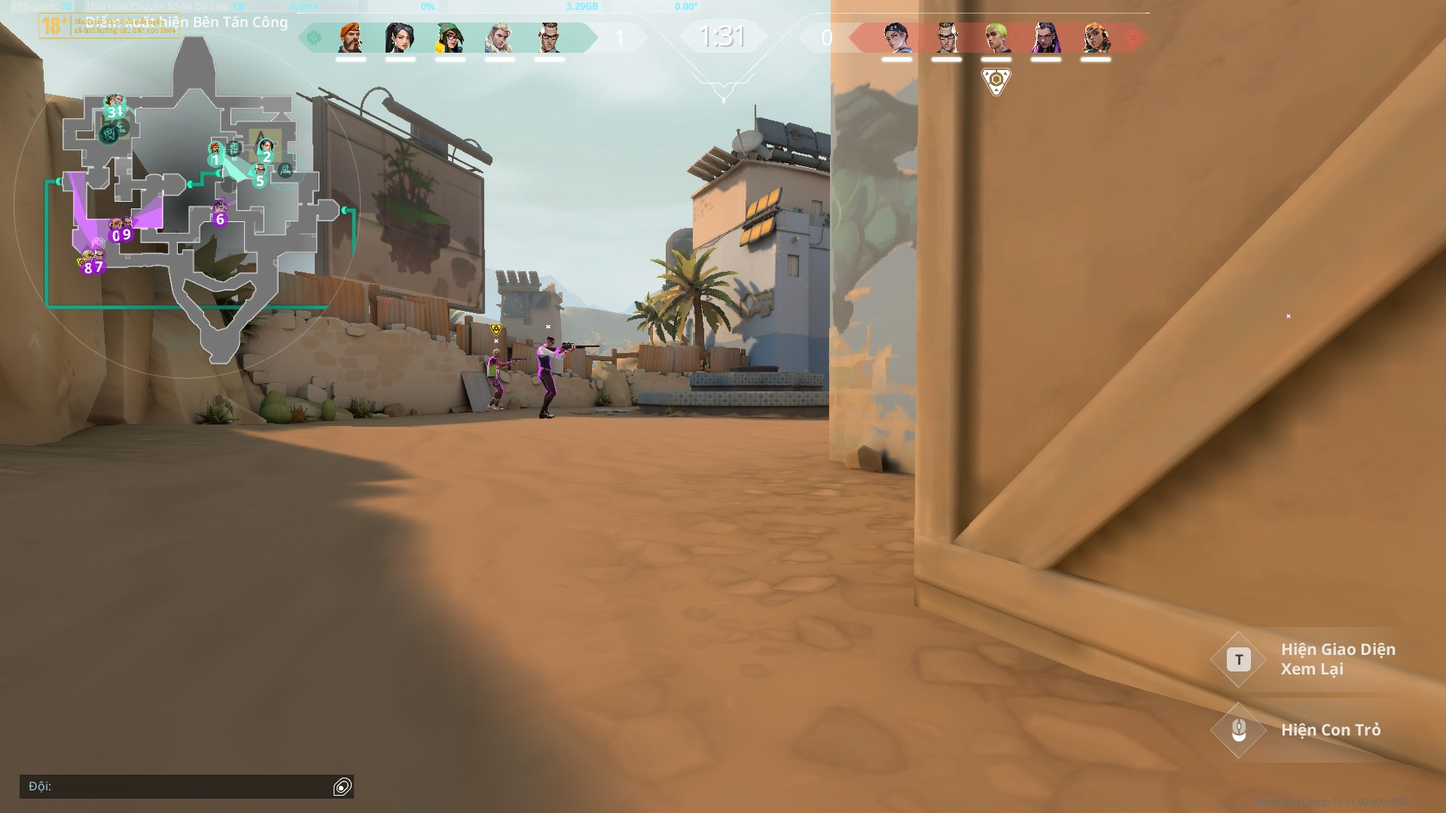body: (534, 343, 555, 367), (487, 356, 500, 376)
head: (545, 335, 555, 346), (493, 346, 501, 358)
